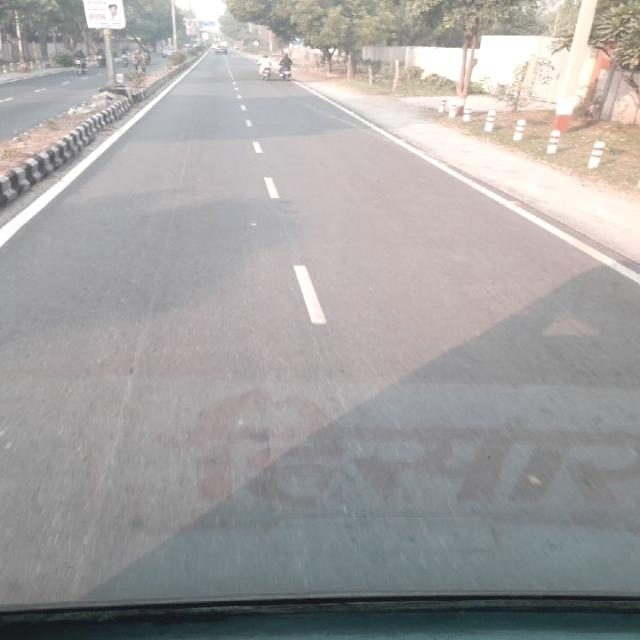D00: (80, 115, 197, 559)
